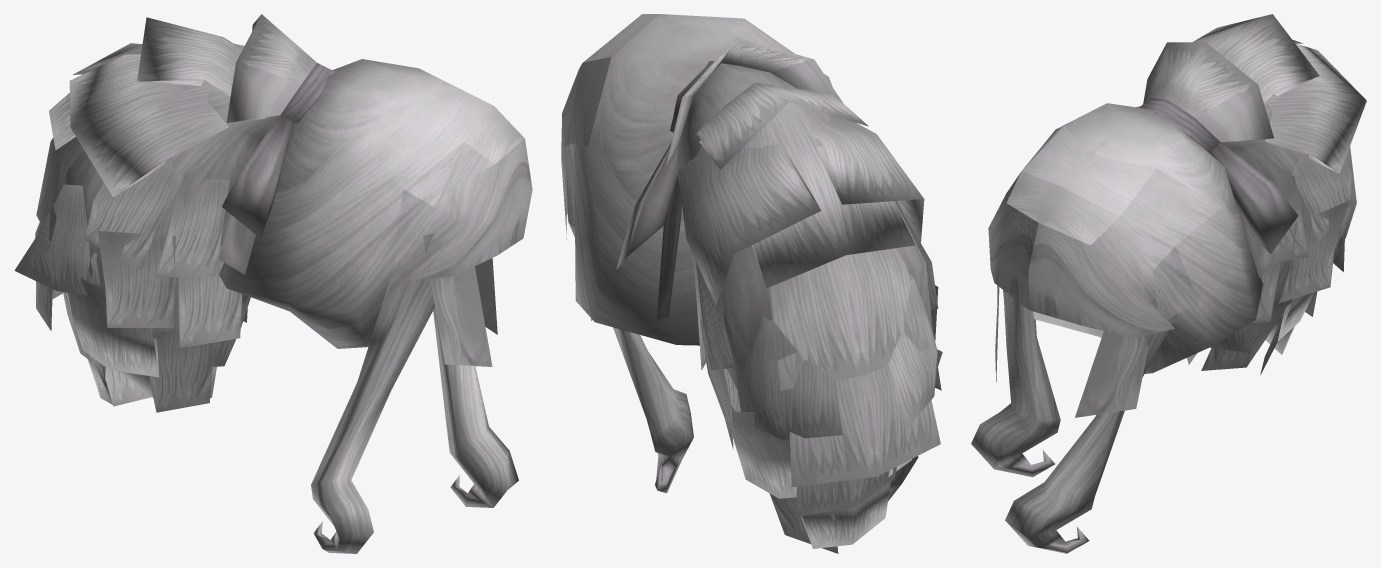
Rendered from GHair_2.glb.
3 views of the same model, side by side, from view 1: azimuth 30°, elevation 25°; view 2: azimuth 150°, elevation 25°; view 3: azimuth 270°, elevation 25° (orthographic). The views are drawn at different scales.
Parts seen in each view (by area): view 1: #G1J; view 2: #G1J; view 3: #G1J.
Part boxes in pixels (x1,y1,x2,y2): #G1J: (14,14,532,553); #G1J: (561,14,942,553); #G1J: (971,14,1366,553).
Bounding box in the file's own units: 0.0504 × 0.0583 × 0.0465.
1 material, 1 textured.
